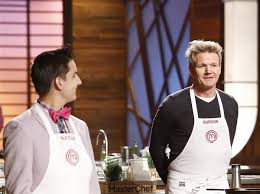Bad: (4, 39, 238, 194)
